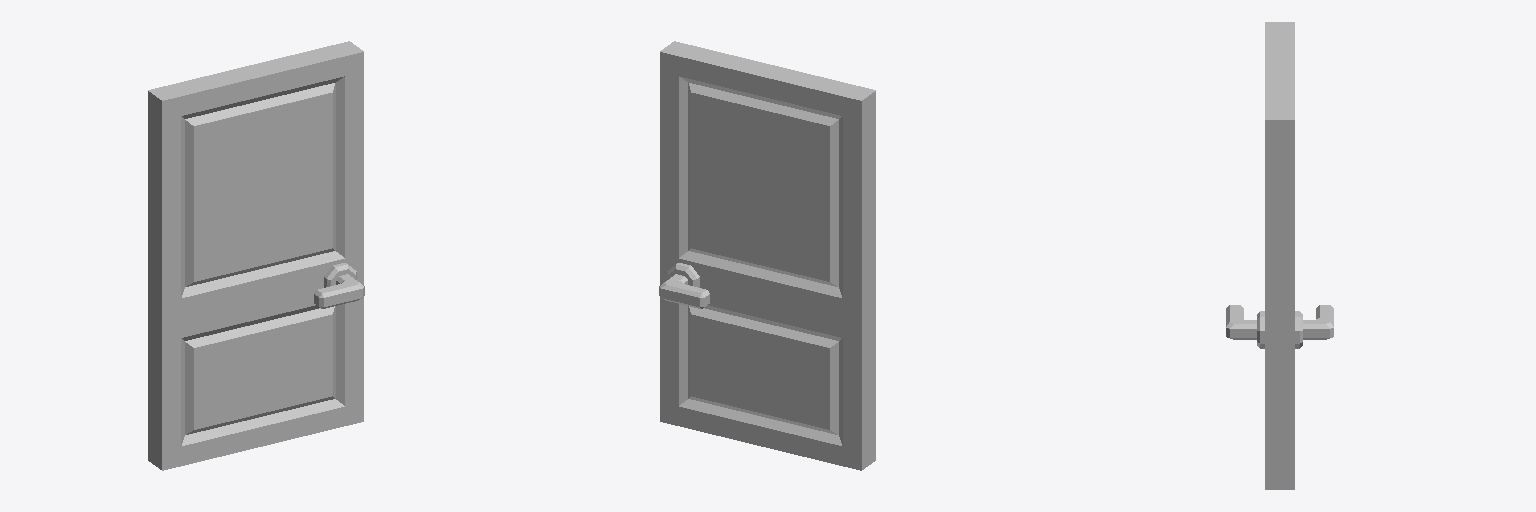
File: wall_tiled_doorway_wall_tiled_door.obj
3 views of the same model, side by side, from view 1: azimuth 30°, elevation 25°; view 2: azimuth 150°, elevation 25°; view 3: azimuth 270°, elevation 25° (orthographic).
Parts seen in each view (by area): view 1: wall_tiled_door; view 2: wall_tiled_door; view 3: wall_tiled_door.
Part boxes in pixels (x1,y1,x2,y2): wall_tiled_door: (148,41,364,470); wall_tiled_door: (659,41,875,470); wall_tiled_door: (1226,22,1333,489).
Size of the model in its own units: 1.6 by 2.8 by 0.74.